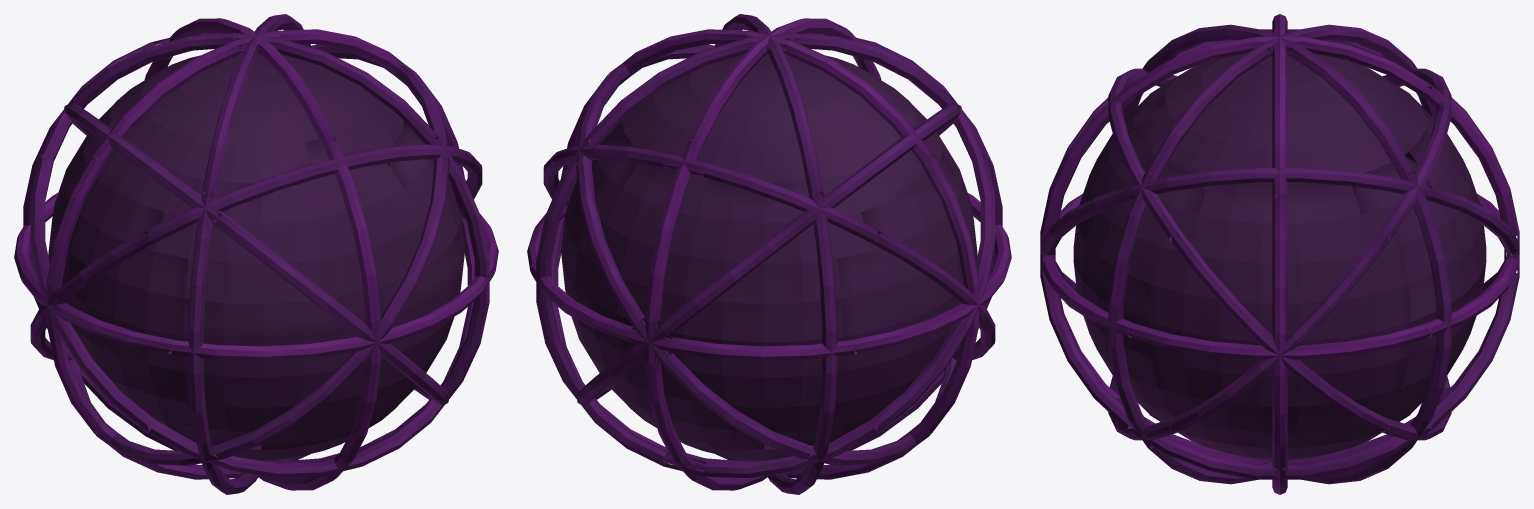
The model's file is virus.fbx.
The picture shows the model from 3 angles, left to right: view 1: azimuth 30°, elevation 25°; view 2: azimuth 150°, elevation 25°; view 3: azimuth 270°, elevation 25°; orthographic projection.
Parts seen in each view (by area): view 1: sphere, torus_3, torus_1, torus_5, torus_7, torus_2, torus, torus_6, torus_4, torus_8; view 2: sphere, torus_4, torus_1, torus_6, torus_7, torus_2, torus, torus_5, torus_3, torus_8; view 3: sphere, torus_2, torus_8, torus_3, torus_4, torus, torus_7, torus_6, torus_5, torus_1.
Boxes of the visible parts, x1,y1,x2,y2 form: sphere: [48, 48, 464, 461]; torus_3: [23, 33, 489, 463]; torus_1: [46, 29, 464, 479]; torus_5: [30, 33, 474, 477]; torus_7: [69, 44, 449, 465]; torus_2: [144, 18, 380, 490]; torus: [14, 193, 498, 360]; torus_6: [30, 144, 482, 360]; torus_4: [188, 14, 311, 494]; torus_8: [64, 104, 449, 405]; sphere: [561, 48, 977, 461]; torus_4: [536, 33, 1002, 465]; torus_1: [561, 29, 979, 479]; torus_6: [551, 33, 995, 477]; torus_7: [576, 44, 956, 465]; torus_2: [645, 18, 881, 490]; torus: [527, 193, 1011, 360]; torus_5: [543, 144, 995, 360]; torus_3: [714, 14, 837, 494]; torus_8: [576, 104, 961, 405]; sphere: [1073, 53, 1486, 460]; torus_2: [1040, 37, 1519, 464]; torus_8: [1040, 29, 1519, 479]; torus_3: [1108, 24, 1436, 484]; torus_4: [1123, 24, 1451, 484]; torus: [1040, 193, 1519, 359]; torus_7: [1040, 168, 1519, 291]; torus_6: [1108, 68, 1451, 440]; torus_5: [1108, 68, 1451, 440]; torus_1: [1272, 14, 1287, 494].
Bounding box in the file's own units: 58.12 × 58.12 × 58.12.
Materials: 1 (1 with a texture image).
